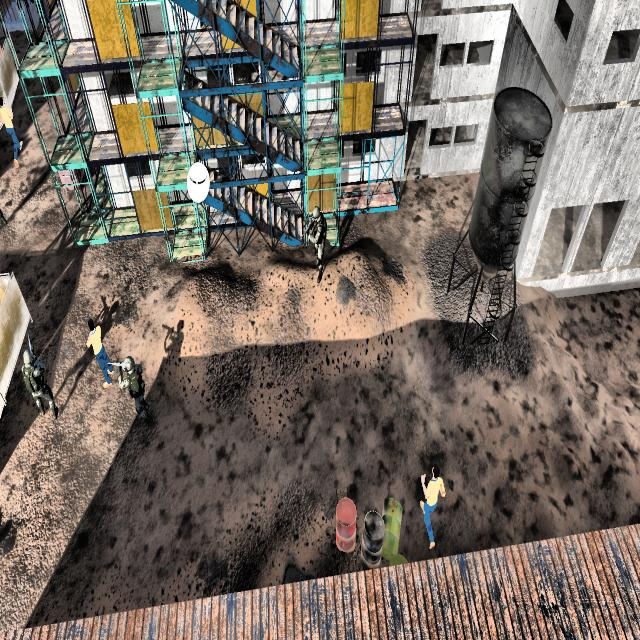bad: (114, 344, 158, 438), (18, 332, 59, 426), (300, 200, 332, 282)
good: (415, 456, 448, 568), (84, 311, 114, 395), (0, 90, 24, 173)
